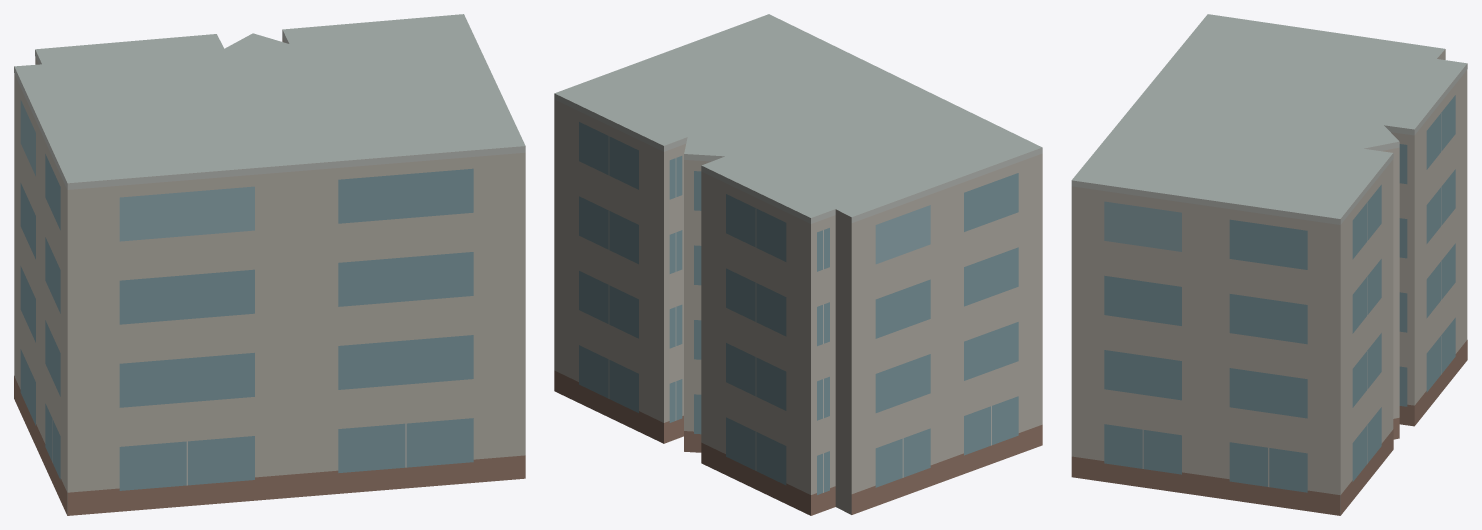
The model's file is survey-upis-32663507.glb.
3 renders of one model, left to right at view 1: azimuth 30°, elevation 25°; view 2: azimuth 150°, elevation 25°; view 3: azimuth 270°, elevation 25°, orthographic. The views are drawn at different scales.
Visible parts, largest first — view 1: survey-upis-32663507.tmp; view 2: survey-upis-32663507.tmp; view 3: survey-upis-32663507.tmp.
Boxes of the visible parts, x1=… form: survey-upis-32663507.tmp: x1=14, y1=14, x2=525, y2=515; survey-upis-32663507.tmp: x1=554, y1=14, x2=1042, y2=515; survey-upis-32663507.tmp: x1=1071, y1=14, x2=1467, y2=515.
Bounding box in the file's own units: 18.04 × 12.17 × 14.72.
